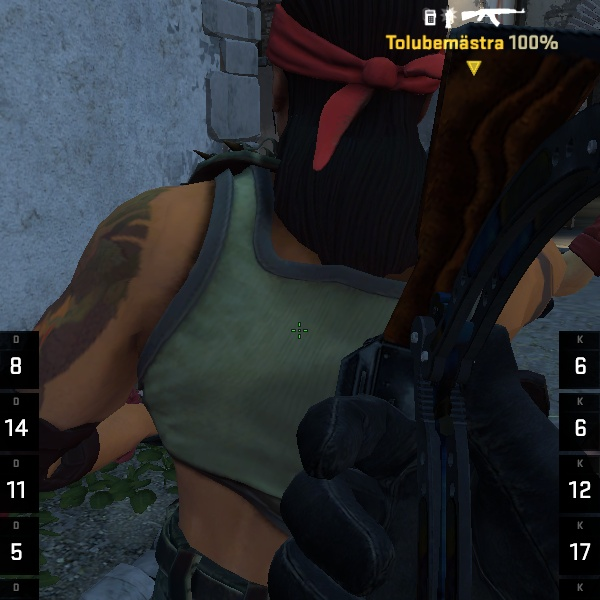t_body: (52, 0, 575, 581)
